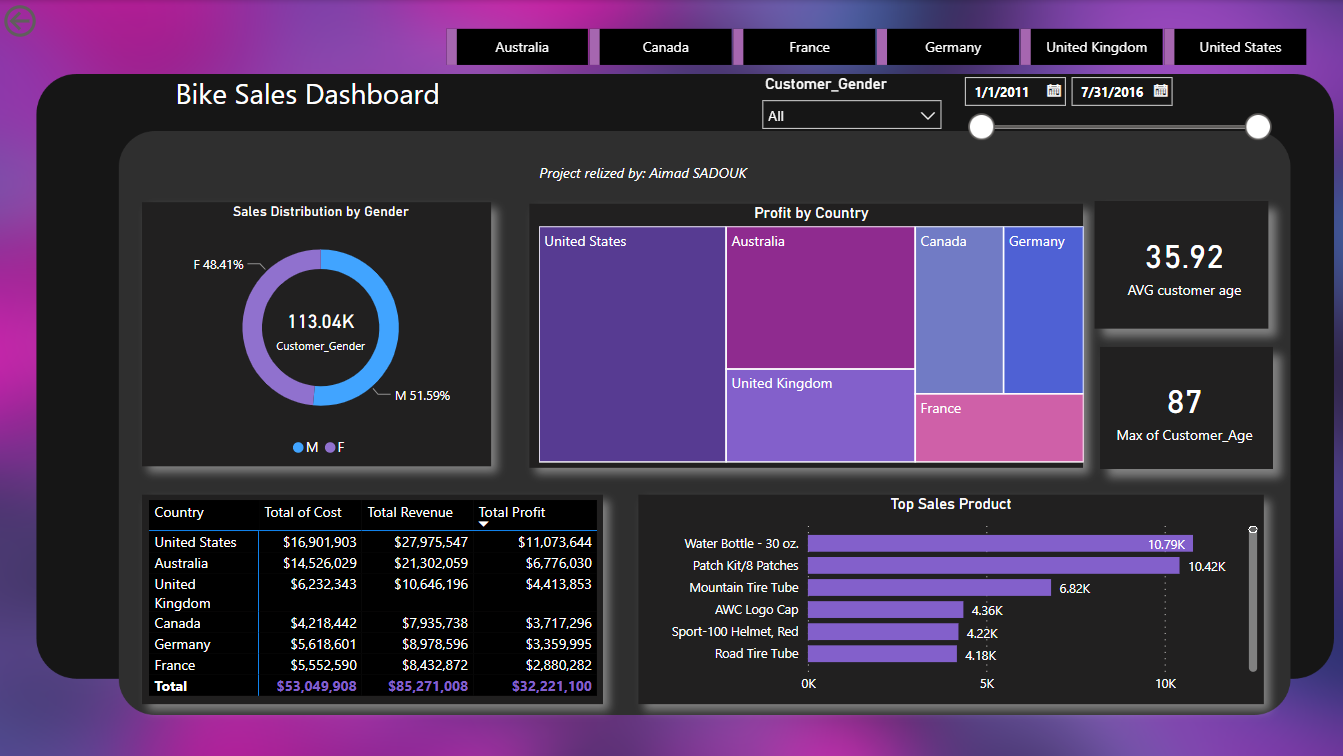

The dashboard page shown, as its layout file describes it:
{"tool":"powerbi","page":{"name":"Page 2","canvas":[1280,720],"ordinal":1},"visuals":[{"type":"clusteredBarChart","title":"Top Sales Product ","fields":{"Category":["Bike_Sales.Product"],"Y":["CountNonNull(Bike_Sales.Product)"]},"box":[609.3,471.3,593.9,197.6],"z":0},{"type":"donutChart","title":"Sales Distribution by Gender","fields":{"Category":["Bike_Sales.Customer_Gender"],"Y":["CountNonNull(Bike_Sales.Customer_Gender)"]},"box":[138,194,336.8,251.1],"z":1000},{"type":"card","title":"The average customer age","fields":{"Values":["Avg(Bike_Sales.Customer_Age)"]},"box":[1048.5,194,160.7,114.2],"z":2000},{"type":"card","title":"Max cutomer Age ","fields":{"Values":["Max(Bike_Sales.Customer_Age)"]},"box":[1048.5,333.2,160.7,111.9],"z":3000},{"type":"treemap","title":"Profit by Country","fields":{"Group":["Bike_Sales.Country"],"Values":["Sum(Bike_Sales.Profit)"]},"box":[509.4,194,528.4,251.1],"z":4000},{"type":"pivotTable","fields":{"Rows":["Bike_Sales.Country"],"Values":["Sum(Bike_Sales.Cost)","Sum(Bike_Sales.Revenue)","Sum(Bike_Sales.Profit)"]},"box":[138,471.3,439.1,197.6],"z":5000},{"type":"actionButton","box":[0,0,100,40],"z":6000},{"type":"textbox","box":[163,66,364.2,47.6],"z":7000},{"type":"slicer","fields":{"Values":["Bike_Sales.Date"]},"box":[906.8,63.1,313,76.2],"z":8000},{"type":"slicer","fields":{"Values":["Bike_Sales.Customer_Gender"]},"box":[716.4,66.6,190.4,63.1],"z":9000},{"type":"slicer","fields":{"Values":["Bike_Sales.Country"]},"box":[399.9,20.2,868.8,48.8],"z":10000},{"type":"card","fields":{"Values":["CountNonNull(Bike_Sales.Customer_Gender)"]},"box":[255.9,265.4,101.2,95.2],"z":11000},{"type":"textbox","box":[509.4,150,247.5,33.3],"z":12000}]}

Visuals, with their boxes in screenshot pixels (x1, y1, x2, y2), scaled from the page's 1280x720 canvas onto the 1343x756 screenshot:
"Top Sales Product " clusteredBarChart: select_region(639, 495, 1262, 702)
"Sales Distribution by Gender" donutChart: select_region(145, 204, 498, 467)
"The average customer age" card: select_region(1100, 204, 1269, 324)
"Max cutomer Age " card: select_region(1100, 350, 1269, 467)
"Profit by Country" treemap: select_region(534, 204, 1089, 467)
pivotTable - Bike_Sales.Country x Sum(Bike_Sales.Cost): select_region(145, 495, 606, 702)
actionButton: select_region(0, 0, 105, 42)
textbox: select_region(171, 69, 553, 119)
slicer - Bike_Sales.Date: select_region(951, 66, 1280, 146)
slicer - Bike_Sales.Customer_Gender: select_region(752, 70, 951, 136)
slicer - Bike_Sales.Country: select_region(420, 21, 1331, 72)
card - CountNonNull(Bike_Sales.Customer_Gender): select_region(268, 279, 375, 379)
textbox: select_region(534, 158, 794, 192)
